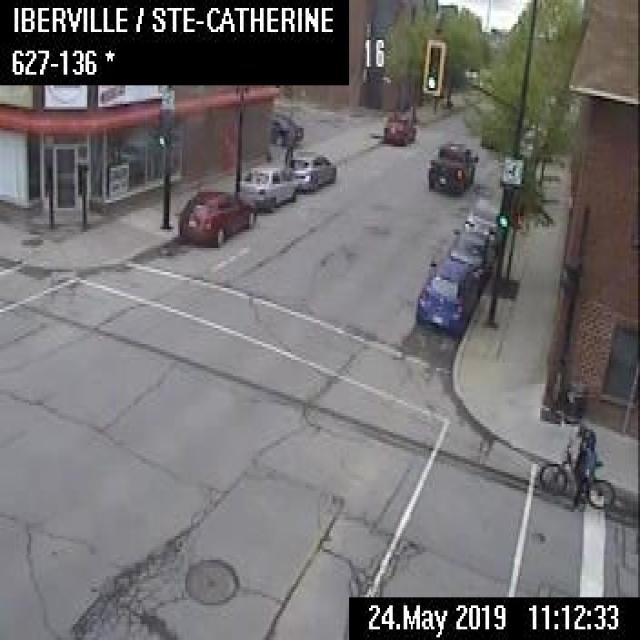cyclist: (536, 424, 614, 512)
pedestrian: (281, 127, 293, 167)
vehicle: (414, 255, 477, 333), (178, 188, 255, 246), (425, 138, 477, 192), (446, 224, 494, 282), (463, 191, 505, 250), (238, 164, 295, 206), (288, 150, 335, 190), (268, 110, 301, 146), (381, 111, 416, 144)
